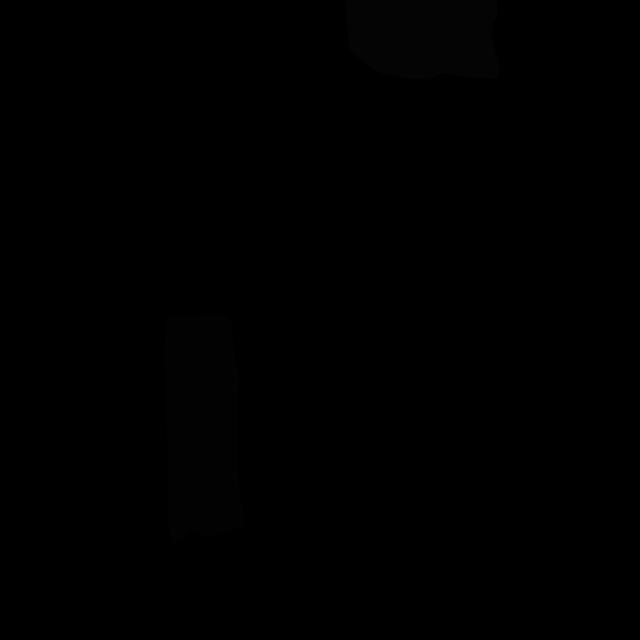cardboard: (164, 313, 244, 543)
soft_plastic: (344, 0, 500, 79)
